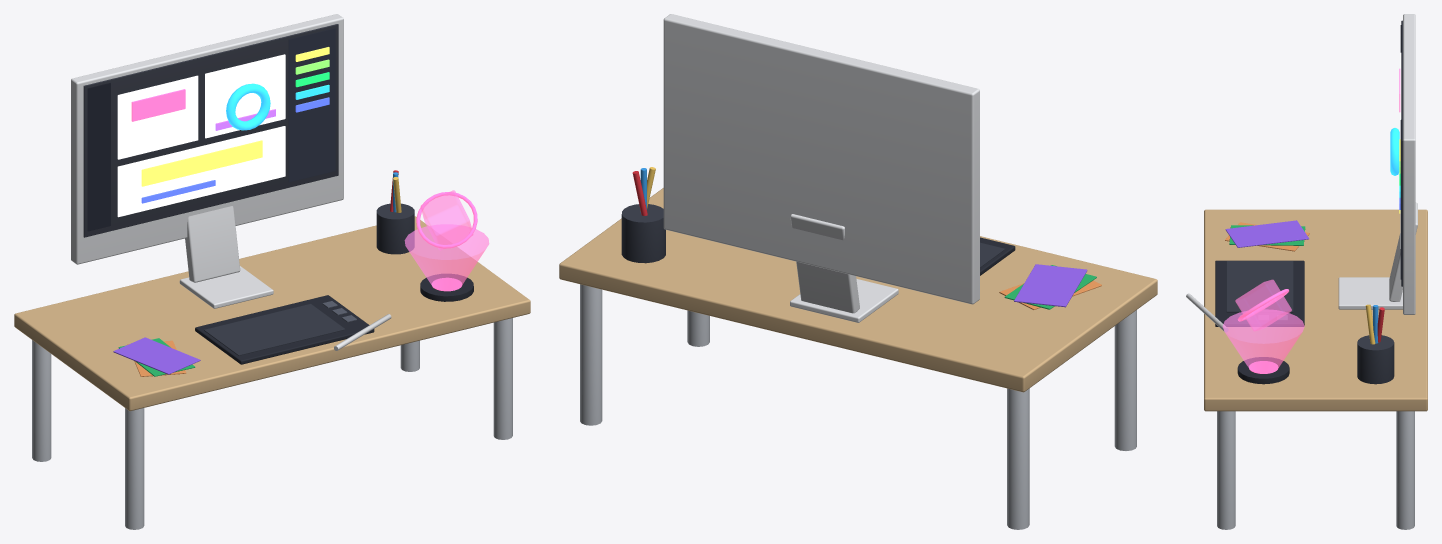
Rendered from designer-desk.glb.
The picture shows the model from 3 angles, left to right: view 1: azimuth 30°, elevation 25°; view 2: azimuth 150°, elevation 25°; view 3: azimuth 270°, elevation 25°; orthographic projection. The views are drawn at different scales.
Visible parts, largest first — view 1: designer-desk-solid, designer-desk-glow (×7), designer-desk-metal, designer-desk-holo, preview-1-rotor-holo, preview-1-rotor-glow; view 2: designer-desk-metal, designer-desk-solid; view 3: designer-desk-solid, designer-desk-metal, designer-desk-holo, preview-1-rotor-holo, designer-desk-glow (×3), preview-1-rotor-glow.
Part boxes in pixels (x1,y1,x2,y2): designer-desk-solid: (14,24,530,411); designer-desk-glow (×7): (87,28,462,291); designer-desk-metal: (32,14,512,529); designer-desk-holo: (404,225,489,290); preview-1-rotor-holo: (420,190,473,250); preview-1-rotor-glow: (416,192,477,248); designer-desk-metal: (580,14,1136,529); designer-desk-solid: (559,167,1157,392); designer-desk-solid: (1186,20,1427,411); designer-desk-metal: (1217,14,1417,529); designer-desk-holo: (1222,310,1304,373); preview-1-rotor-holo: (1235,279,1291,331); designer-desk-glow (×3): (1249,68,1401,373); preview-1-rotor-glow: (1237,289,1288,321).
Size of the model in its own units: 0.9595 by 0.8384 by 0.518.
